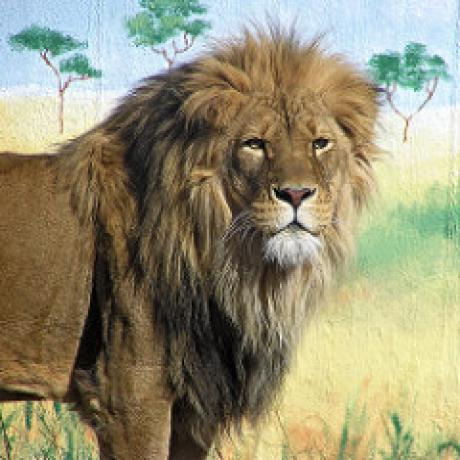Lion: (0, 17, 388, 460)
